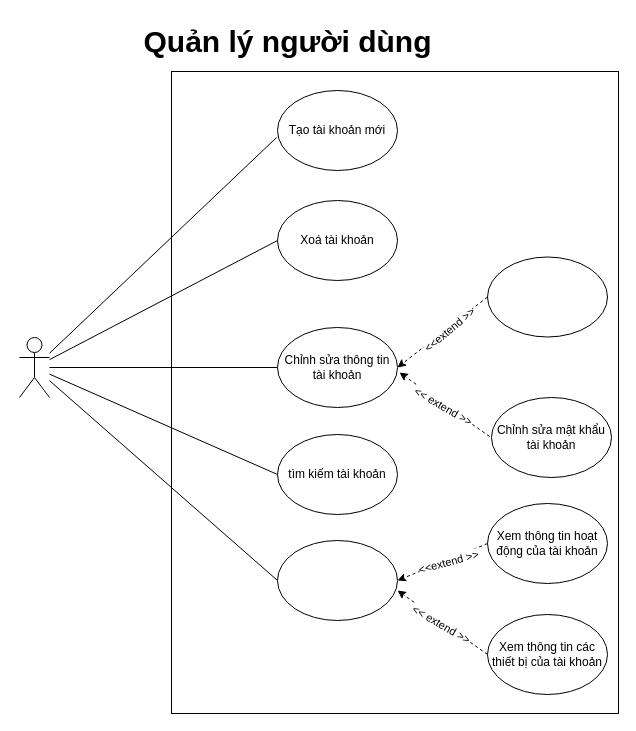
Some shapes in this 636 by 731 pixel diagram are drawn without their labels. The centre of each missing label's shape, as x and y in pixels:
"Admin" belongs at point (34, 367).
"Chỉnh sửa quyền của tài khoản" belongs at point (547, 296).
"Xem thông tin tài khoản" belongs at point (337, 580).
